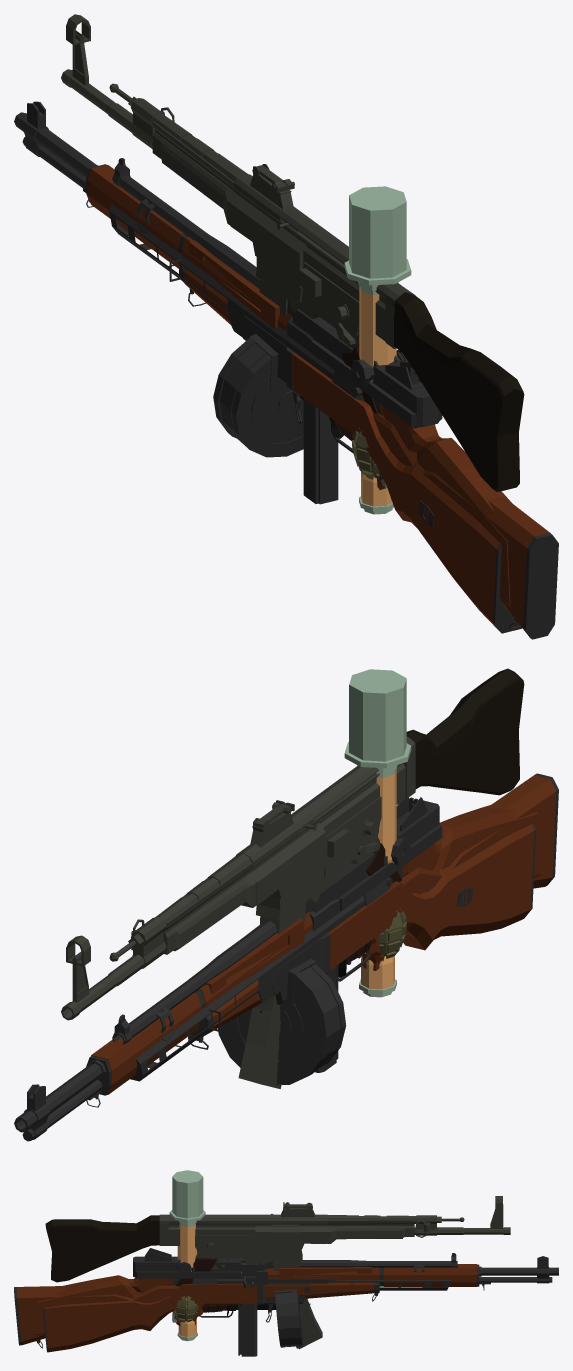
Rendered from weapons.glb.
3 views of the same model, one above another, from view 1: azimuth 30°, elevation 25°; view 2: azimuth 150°, elevation 25°; view 3: azimuth 270°, elevation 25° (orthographic). The views are drawn at different scales.
Visible parts, largest first — view 1: stg_44, ppsh_41, m1_garand, thompson_m1, grenade_stick, ppsh_41__mag, thompson_m1__mag, grenade_mk2; view 2: stg_44, ppsh_41, m1_garand, thompson_m1, grenade_stick, ppsh_41__mag, stg_44__mag, grenade_mk2; view 3: stg_44, m1_garand, ppsh_41, thompson_m1, grenade_stick, ppsh_41__mag, thompson_m1__mag, stg_44__mag, grenade_mk2, ka_bar.
Boxes of the visible parts, <box> form: stg_44: <box>61,14,524,491</box>; ppsh_41: <box>109,199,521,633</box>; m1_garand: <box>14,101,558,639</box>; thompson_m1: <box>112,158,511,613</box>; grenade_stick: <box>344,186,411,514</box>; ppsh_41__mag: <box>213,337,303,457</box>; thompson_m1__mag: <box>303,398,318,503</box>; grenade_mk2: <box>351,428,379,479</box>; stg_44: <box>61,668,524,1020</box>; ppsh_41: <box>130,823,535,1081</box>; m1_garand: <box>14,773,558,1141</box>; thompson_m1: <box>112,797,540,1059</box>; grenade_stick: <box>344,669,411,997</box>; ppsh_41__mag: <box>218,964,346,1084</box>; stg_44__mag: <box>238,902,305,1088</box>; grenade_mk2: <box>365,908,407,958</box>; stg_44: <box>45,1196,510,1286</box>; m1_garand: <box>14,1256,558,1348</box>; ppsh_41: <box>42,1264,451,1352</box>; thompson_m1: <box>34,1248,457,1355</box>; grenade_stick: <box>169,1170,205,1341</box>; ppsh_41__mag: <box>275,1291,303,1347</box>; thompson_m1__mag: <box>241,1271,257,1356</box>; stg_44__mag: <box>271,1260,322,1349</box>; grenade_mk2: <box>173,1296,203,1322</box>; ka_bar: <box>202,1303,310,1316</box>.
Size of the model in its own units: 0.0876 by 0.2574 by 0.7164.
